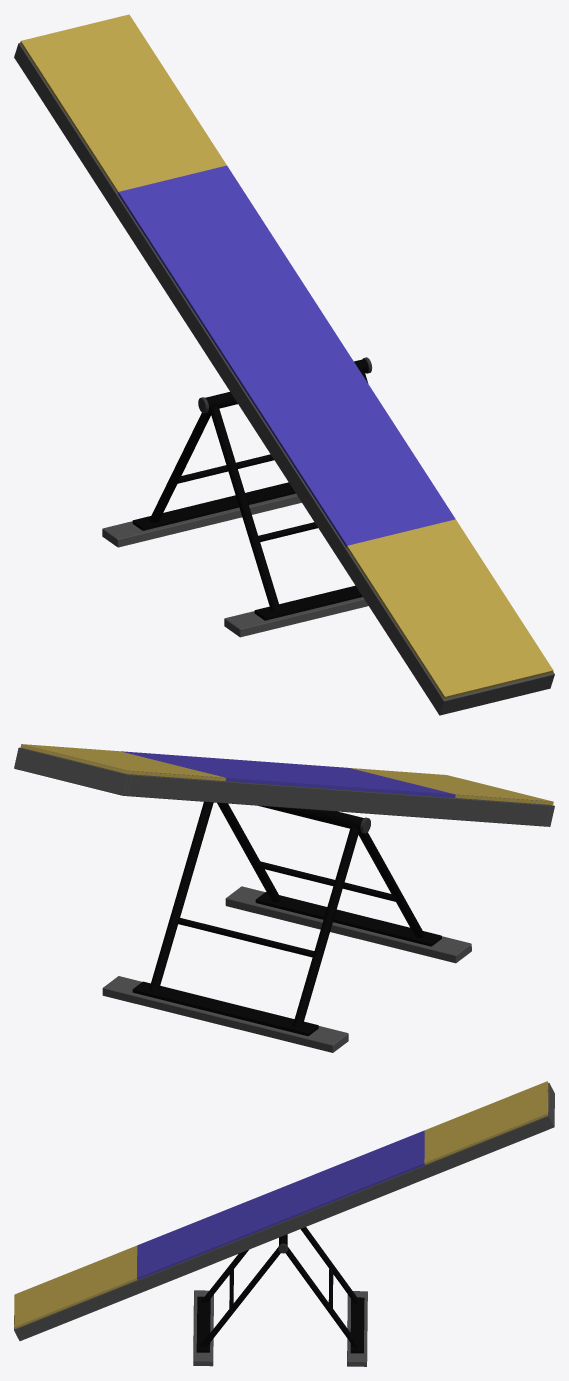
File: Seesaw 1.fbx
The picture shows the model from 3 angles, top to bottom: view 1: azimuth 30°, elevation 25°; view 2: azimuth 150°, elevation 25°; view 3: azimuth 270°, elevation 25°; orthographic projection. The views are drawn at different scales.
Parts seen in each view (by area): view 1: DAE_Equipment_1.001, DAE_Equipment_1; view 2: DAE_Equipment_1.001, DAE_Equipment_1; view 3: DAE_Equipment_1.001, DAE_Equipment_1.
Boxes of the visible parts, left/top/right/bottom form: DAE_Equipment_1.001: left=14, top=14, right=554, bottom=715; DAE_Equipment_1: left=102, top=357, right=372, bottom=637; DAE_Equipment_1.001: left=14, top=744, right=554, bottom=826; DAE_Equipment_1: left=102, top=801, right=471, bottom=1052; DAE_Equipment_1.001: left=14, top=1081, right=554, bottom=1340; DAE_Equipment_1: left=193, top=1227, right=367, bottom=1366.
Bounding box in the file's own units: 69.73 × 107 × 223.
